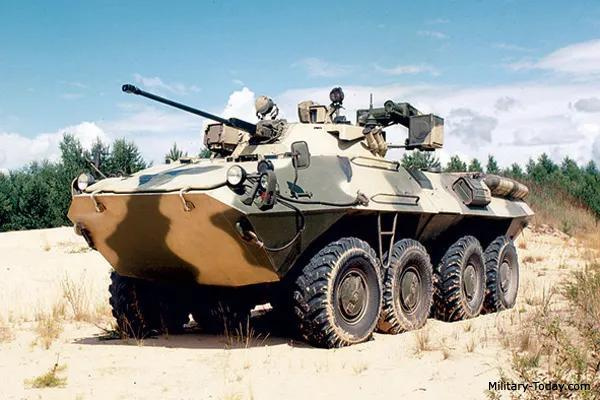MIL_IFV: (59, 73, 536, 349)
